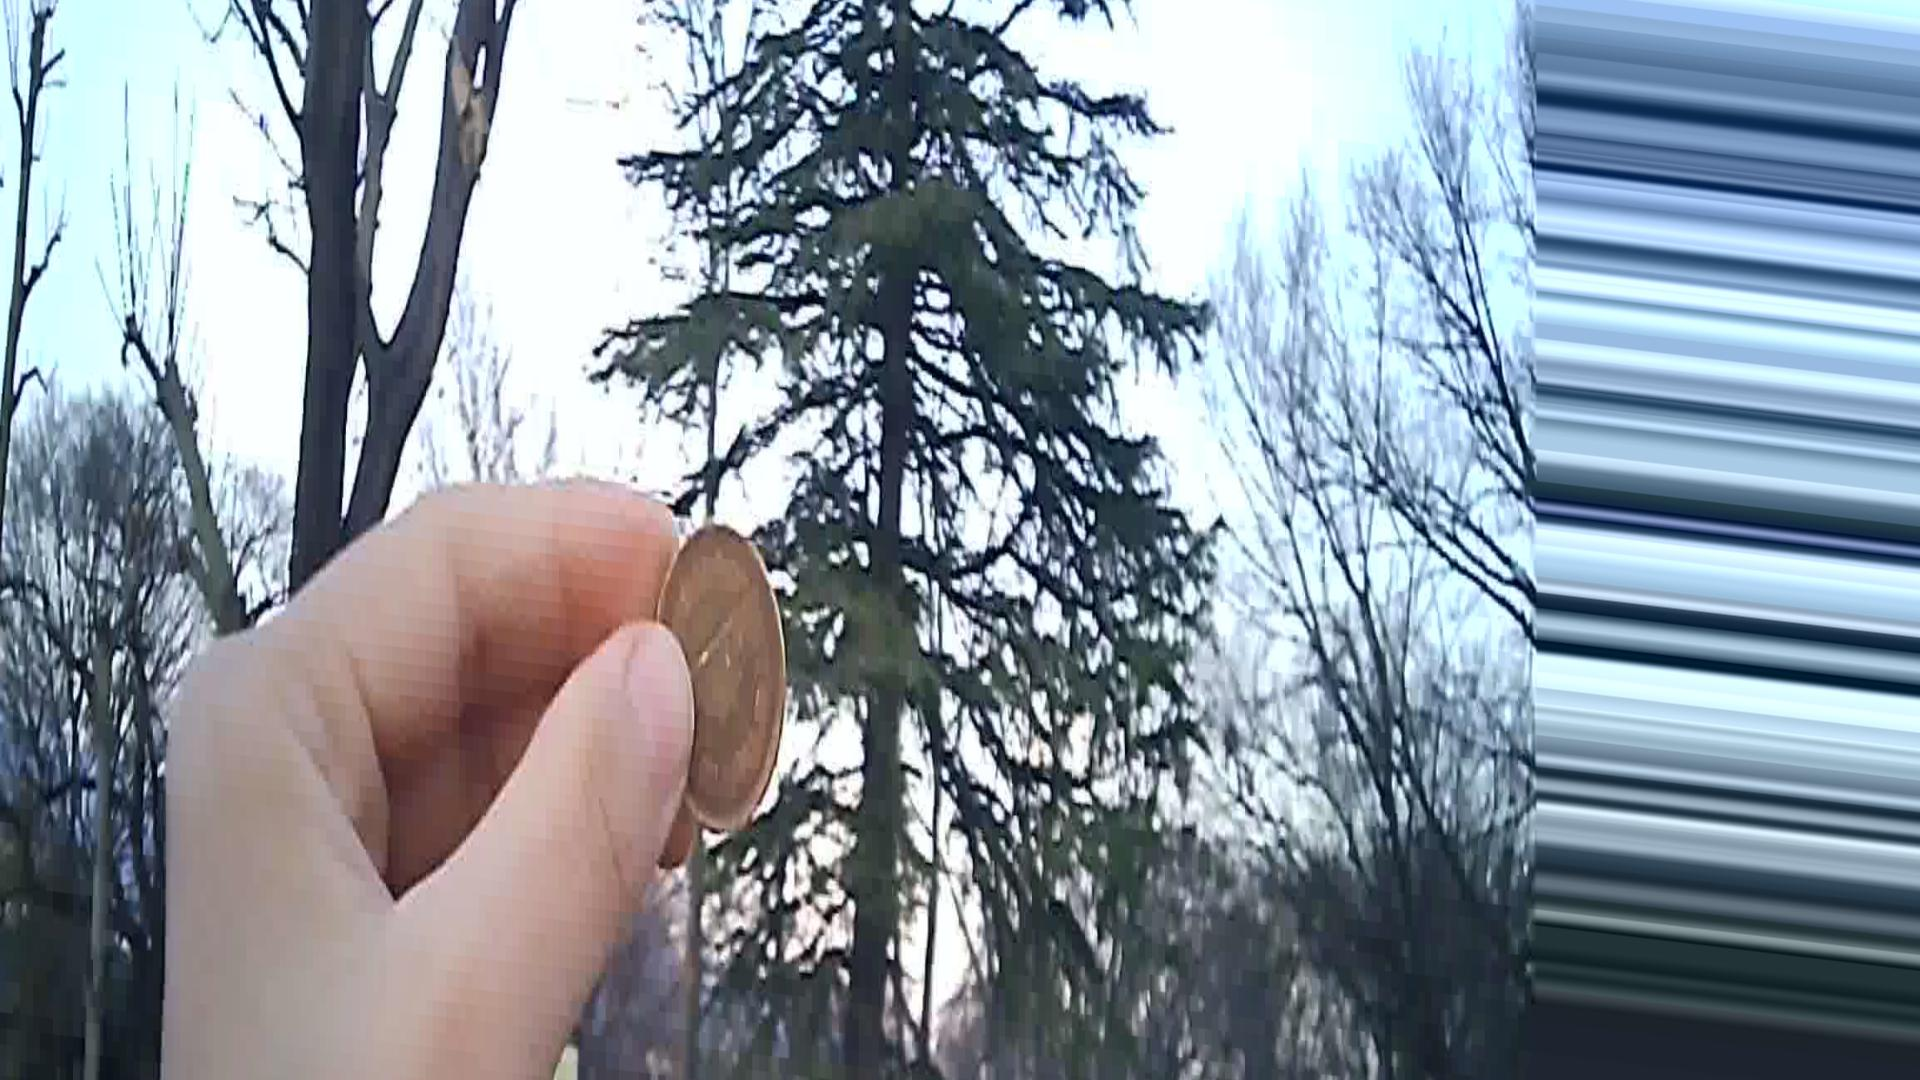10 Yen: (636, 512, 796, 847)
